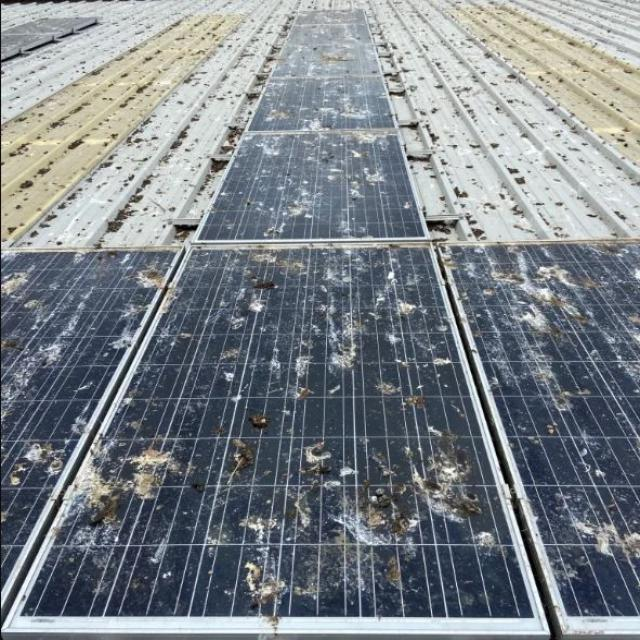Anomaly Solar Panel: (6, 243, 549, 633), (439, 238, 640, 631), (0, 248, 183, 610), (192, 129, 429, 240), (246, 76, 398, 131), (270, 10, 383, 77)
Surface Contaminant: (0, 239, 639, 616), (192, 8, 425, 240)
